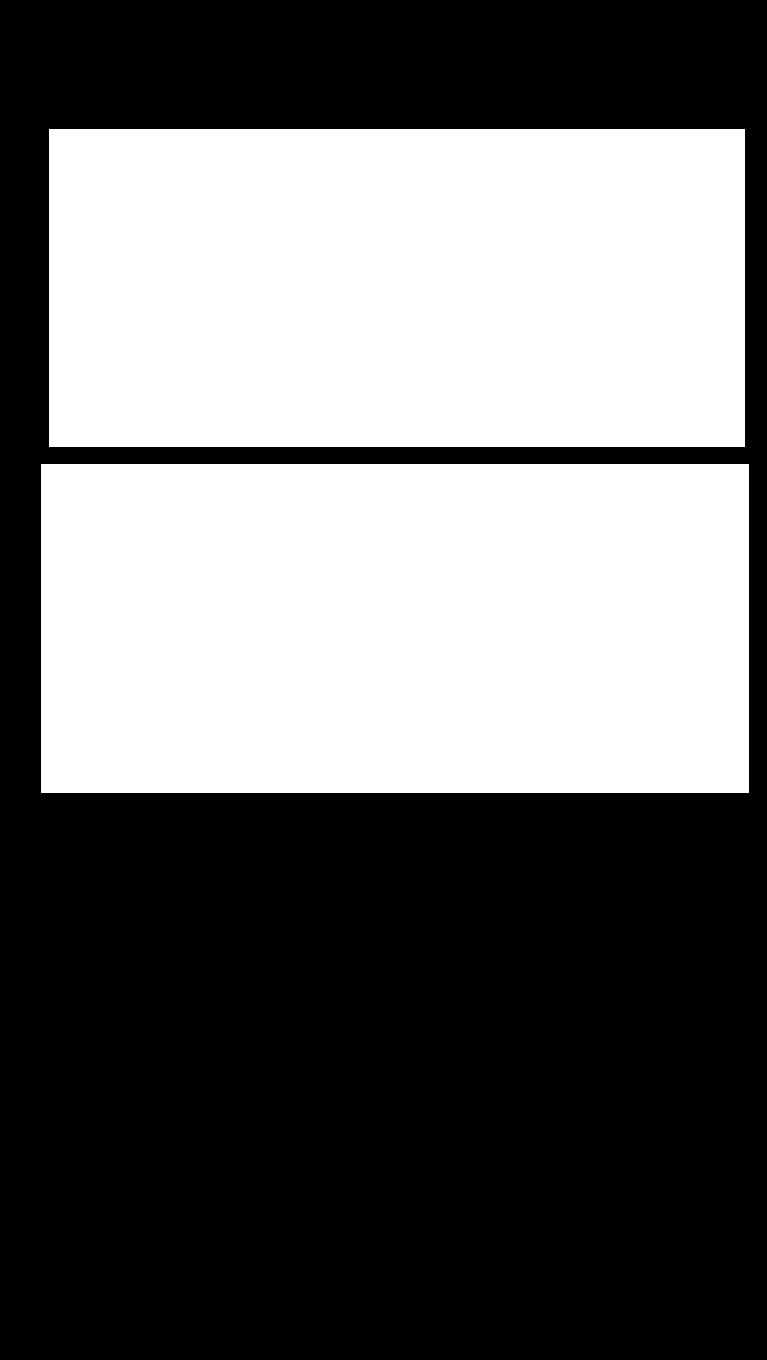table: (41, 464, 749, 793), (49, 129, 745, 447)
